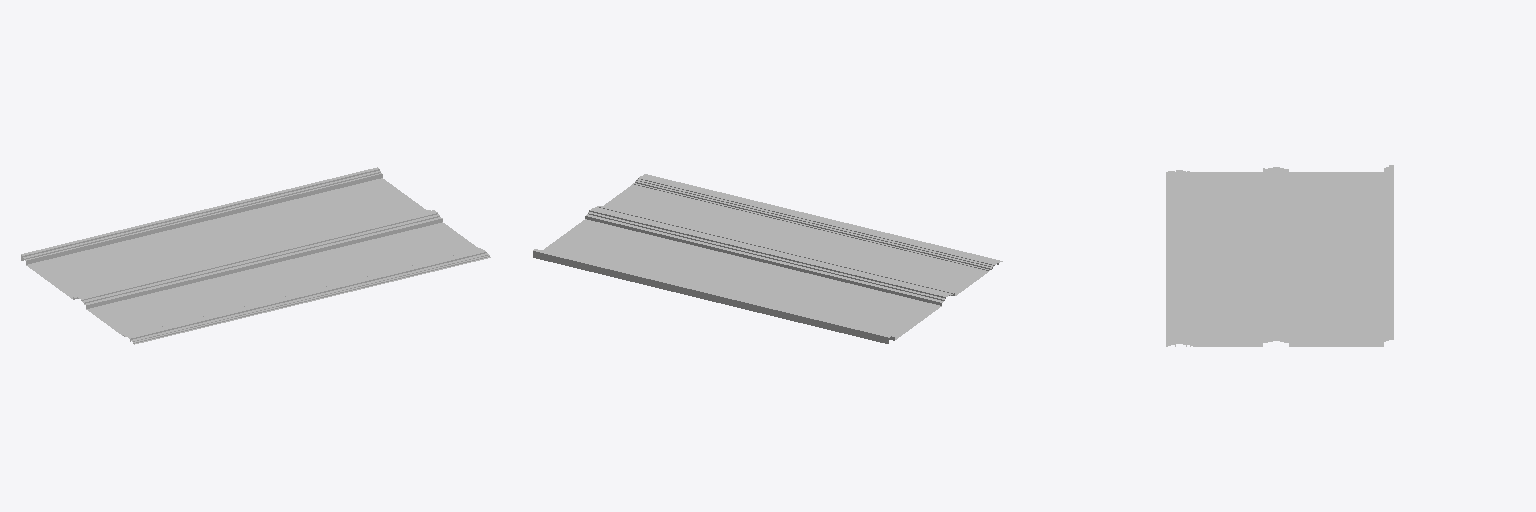
Rendered from Wall_1.obj.
3 renders of one model, left to right at view 1: azimuth 30°, elevation 25°; view 2: azimuth 150°, elevation 25°; view 3: azimuth 270°, elevation 25°, orthographic.
Visible parts, largest first — view 1: Plane; view 2: Plane; view 3: Plane.
Boxes of the visible parts, box(x1,y1,x2,y2) form: Plane: box(21, 167, 490, 344); Plane: box(533, 174, 1002, 343); Plane: box(1166, 165, 1393, 346).
Size of the model in its own units: 18 by 0.3326 by 9.96.